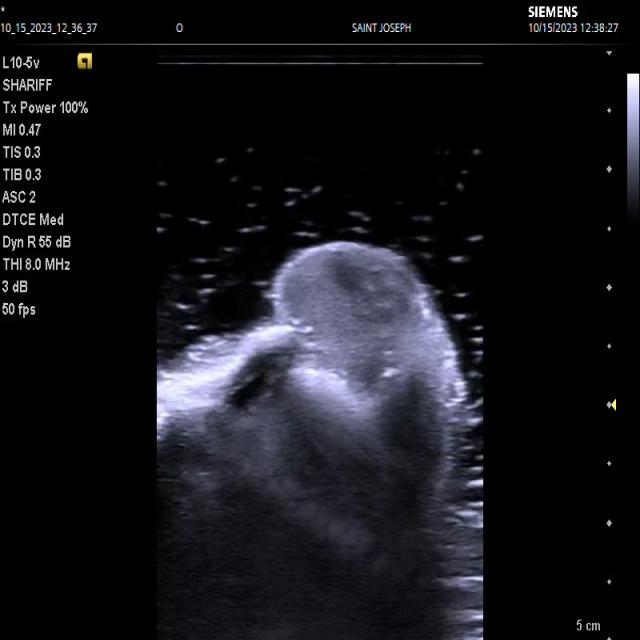tissue: (158, 241, 465, 640)
